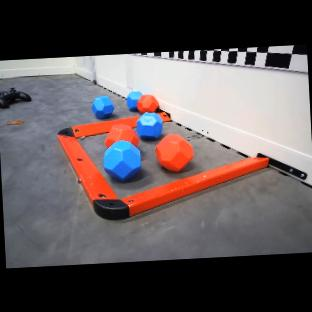Parking-R: (57, 120, 269, 219), (158, 111, 170, 121)
V5_BLUE: (103, 140, 141, 181), (136, 112, 163, 139), (91, 95, 114, 118), (124, 90, 139, 107)
V5_RED: (155, 134, 193, 171), (105, 124, 138, 147), (136, 94, 158, 113)
